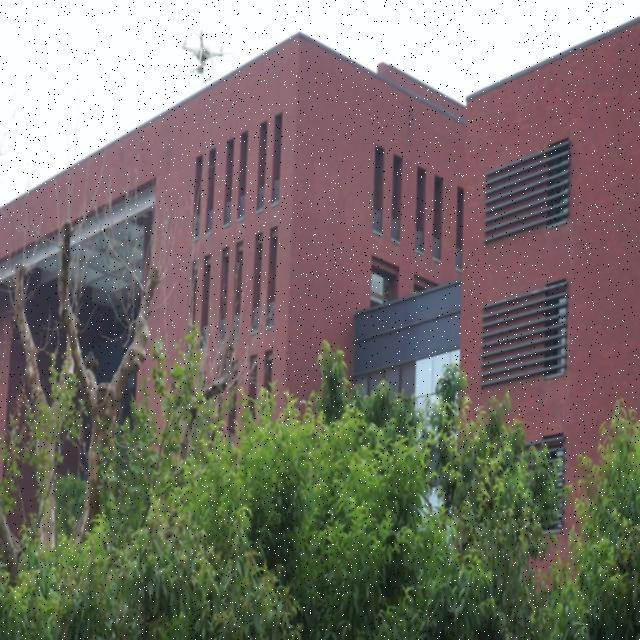UAV: (171, 23, 235, 84)
